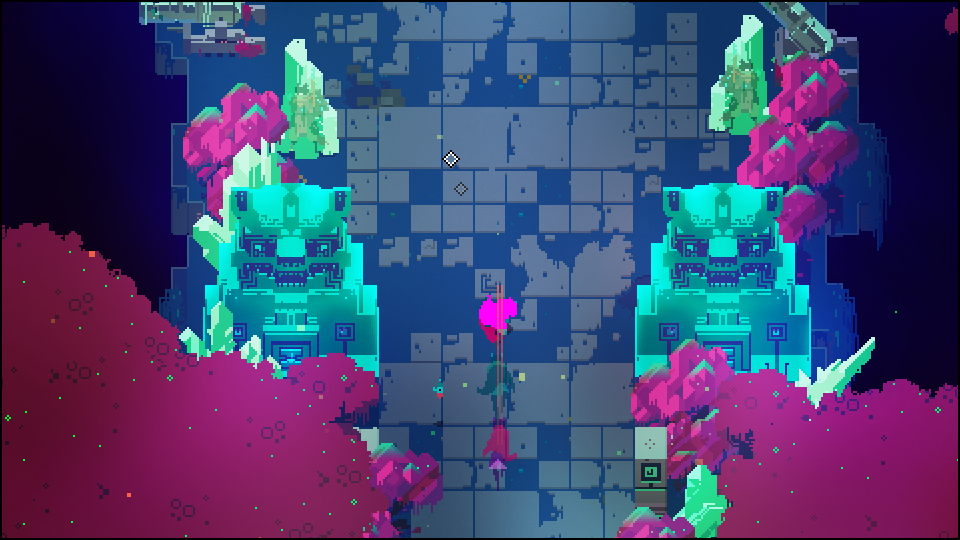player: (473, 292, 517, 338)
